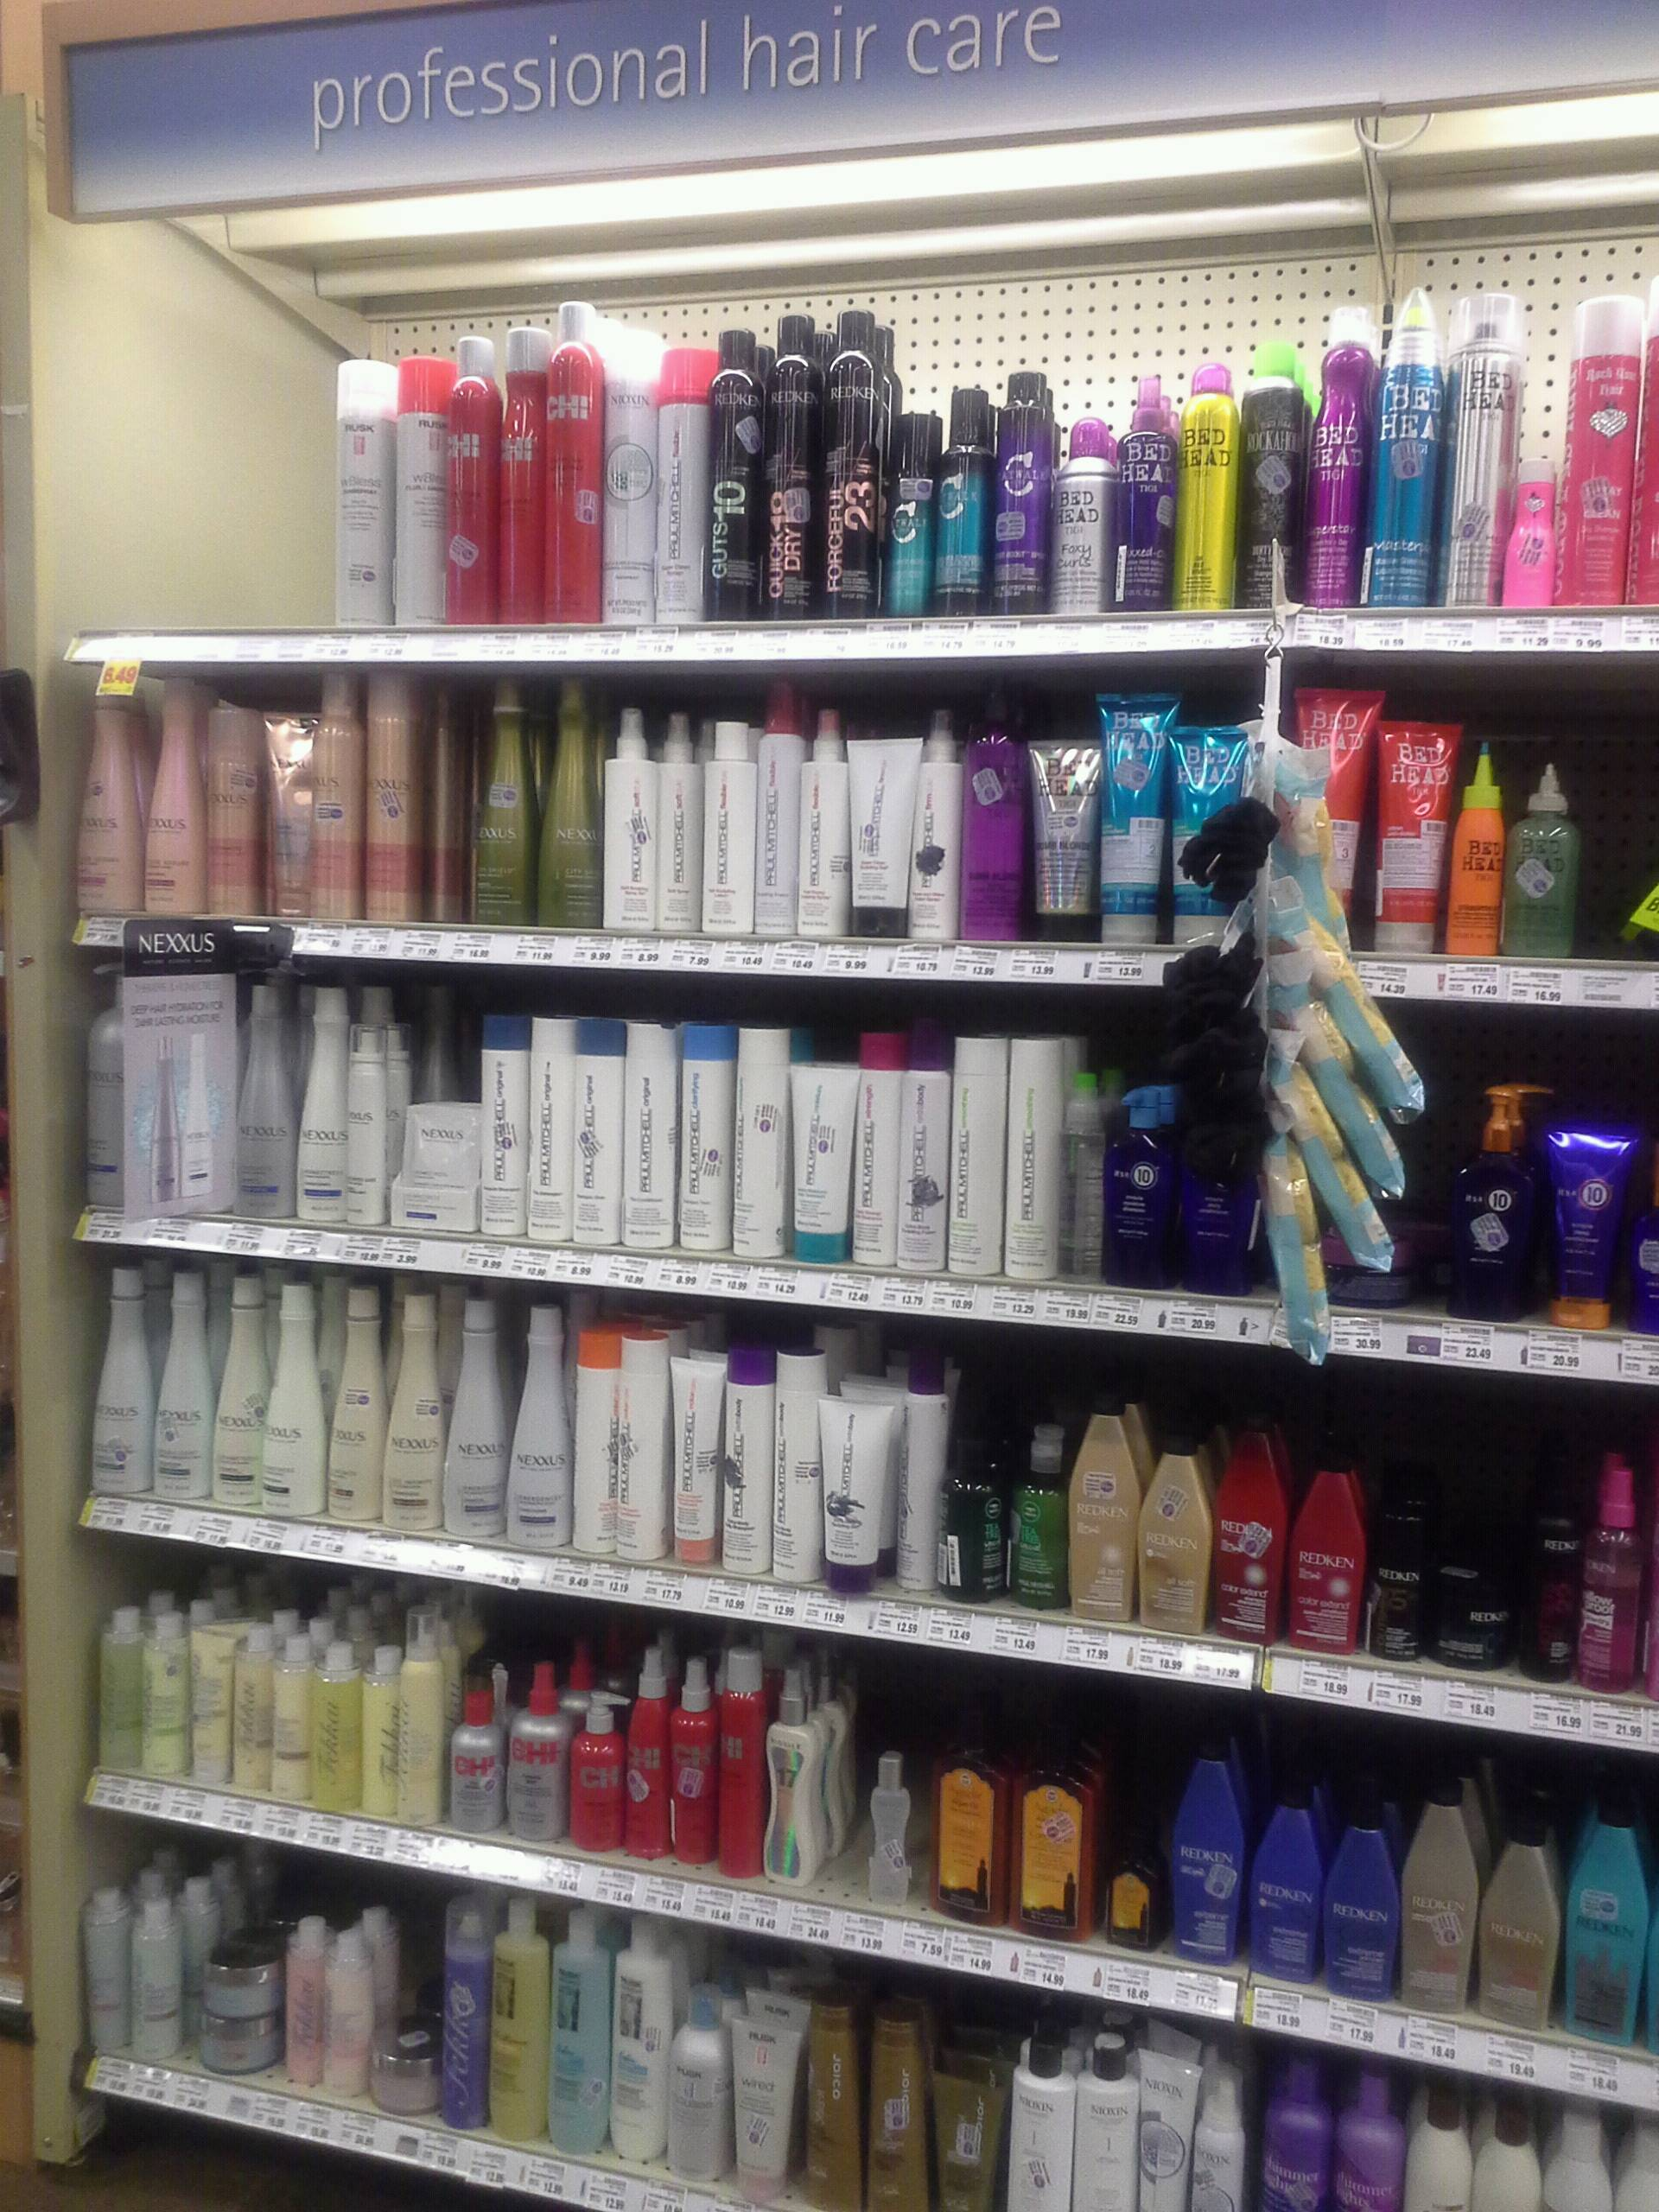product: (1293, 681, 1380, 954), (1453, 1073, 1546, 1331), (1443, 284, 1514, 613), (1568, 294, 1640, 608), (1378, 280, 1441, 613), (1568, 1791, 1649, 2040), (1314, 298, 1377, 611), (829, 308, 889, 620), (551, 298, 606, 627), (1178, 1078, 1262, 1296), (1549, 1122, 1636, 1327), (1405, 1771, 1480, 2010), (1173, 725, 1253, 948), (1026, 1709, 1101, 1944), (1101, 690, 1169, 944), (939, 1695, 1012, 1928), (711, 324, 769, 620), (772, 310, 826, 620), (234, 974, 301, 1217), (1326, 1782, 1403, 1998), (1243, 371, 1309, 613), (1384, 716, 1450, 958), (1509, 747, 1586, 956), (999, 361, 1060, 620), (803, 1991, 875, 2212), (1141, 1423, 1216, 1634), (472, 674, 535, 925), (1073, 1383, 1138, 1625), (1175, 1740, 1243, 1968), (446, 334, 498, 627), (78, 679, 143, 914), (965, 690, 1025, 942), (1251, 1766, 1319, 1986), (540, 671, 598, 928), (551, 1904, 610, 2153), (335, 361, 389, 629), (446, 1291, 504, 1540), (509, 1303, 566, 1552), (366, 665, 422, 921), (936, 380, 995, 620), (1028, 737, 1098, 941), (1178, 388, 1241, 613), (1495, 1811, 1558, 2033), (502, 324, 547, 627), (1584, 1456, 1642, 1695), (1222, 1423, 1284, 1641), (612, 1909, 666, 2161), (326, 1284, 383, 1521), (769, 1663, 828, 1892), (1297, 1458, 1364, 1656), (955, 1031, 1009, 1280), (146, 674, 202, 914), (495, 1893, 547, 2146), (660, 341, 708, 620), (610, 340, 655, 627), (1112, 1076, 1173, 1287), (601, 709, 659, 930), (389, 1292, 441, 1533), (1262, 2047, 1338, 2210), (1124, 369, 1175, 617), (155, 1264, 207, 1503), (397, 352, 443, 627), (1265, 1139, 1319, 1369), (96, 1258, 148, 1494), (823, 1395, 885, 1592), (1073, 2031, 1141, 2212), (213, 1270, 263, 1512), (312, 669, 361, 918), (207, 702, 263, 920), (671, 1982, 730, 2186), (737, 1026, 788, 1263), (789, 1062, 847, 1268), (270, 1278, 319, 1517), (802, 700, 850, 939), (1453, 728, 1504, 956), (734, 2013, 796, 2196), (622, 1331, 671, 1564), (901, 1350, 948, 1590), (570, 1324, 619, 1555), (681, 1024, 730, 1252), (423, 679, 469, 925), (706, 716, 756, 935), (1016, 1036, 1061, 1280), (1011, 2031, 1072, 2212), (856, 737, 910, 941), (626, 1024, 674, 1249), (509, 1656, 566, 1846), (443, 1898, 490, 2130), (1063, 420, 1117, 620), (774, 1341, 816, 1588), (720, 1646, 763, 1883), (727, 1336, 770, 1573), (859, 1021, 901, 1266), (904, 1014, 945, 1270), (955, 1432, 1014, 1604), (931, 2069, 1002, 2212), (920, 700, 962, 944), (1535, 1440, 1577, 1681), (1019, 1420, 1072, 1609), (1342, 2059, 1406, 2212), (1371, 1493, 1429, 1663), (863, 1745, 922, 1911), (1349, 996, 1424, 1127), (572, 1681, 627, 1855), (484, 1007, 526, 1238), (762, 669, 798, 934), (303, 986, 343, 1226), (633, 1639, 676, 1858), (87, 960, 125, 1207), (674, 1355, 720, 1564), (880, 2003, 925, 2210), (406, 1599, 446, 1832), (660, 711, 702, 932), (1410, 2080, 1478, 2212), (890, 409, 934, 615), (577, 1021, 617, 1242), (268, 716, 312, 916), (1068, 1066, 1108, 1282), (136, 1893, 190, 2054), (533, 1019, 572, 1238), (71, 1893, 124, 2052), (453, 1670, 504, 1834), (678, 1649, 714, 1871), (1108, 1811, 1164, 1952), (350, 1024, 389, 1226), (1483, 2092, 1549, 2209), (326, 1932, 371, 2099), (1446, 1562, 1516, 1670), (143, 1611, 188, 1773), (1202, 2074, 1255, 2212), (1143, 2054, 1188, 2212), (315, 1639, 357, 1808), (190, 1629, 234, 1782), (1520, 456, 1563, 610), (272, 1629, 308, 1806), (98, 1609, 138, 1768), (362, 1642, 397, 1822), (408, 1094, 474, 1181), (293, 1909, 322, 2092), (204, 1942, 275, 2017), (239, 1625, 268, 1787), (396, 1184, 477, 1242), (382, 2036, 439, 2118), (1338, 1162, 1378, 1270), (202, 2020, 272, 2067)
